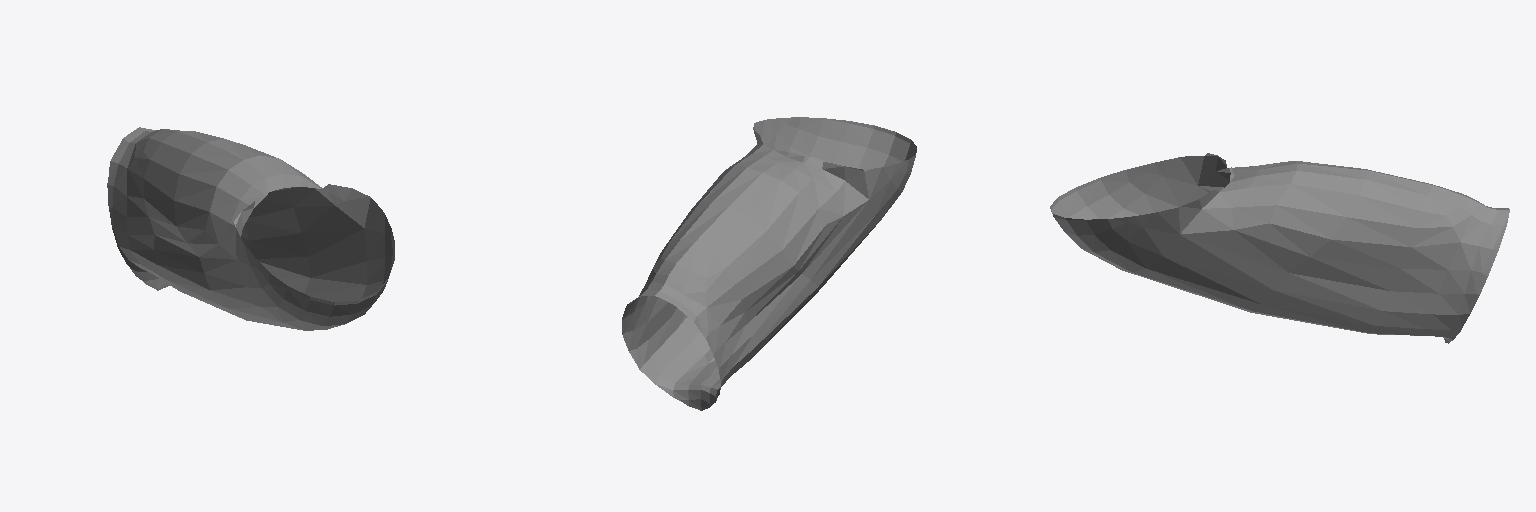
File: mollet_arriere_droit.obj
The picture shows the model from 3 angles: view 1: azimuth 30°, elevation 25°; view 2: azimuth 150°, elevation 25°; view 3: azimuth 270°, elevation 25°; orthographic projection.
Visible parts, largest first — view 1: Cube.004_Cube.003; view 2: Cube.004_Cube.003; view 3: Cube.004_Cube.003.
Boxes of the visible parts, x1,y1,x2,y2 form: Cube.004_Cube.003: [107, 127, 394, 330]; Cube.004_Cube.003: [622, 117, 916, 410]; Cube.004_Cube.003: [1050, 153, 1509, 343].
Bounding box in the file's own units: 0.6101 × 0.8231 × 1.88.